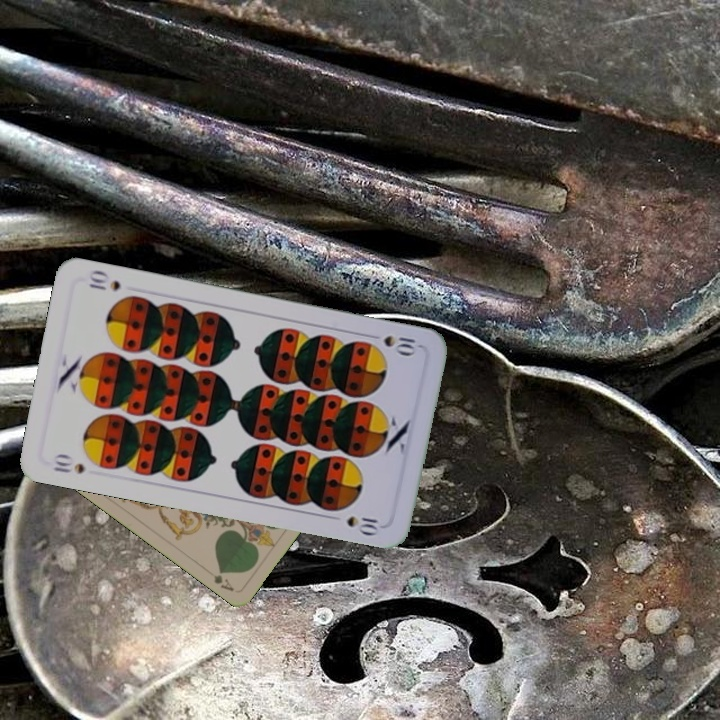S10: (363, 330, 422, 357), (49, 450, 87, 477)
